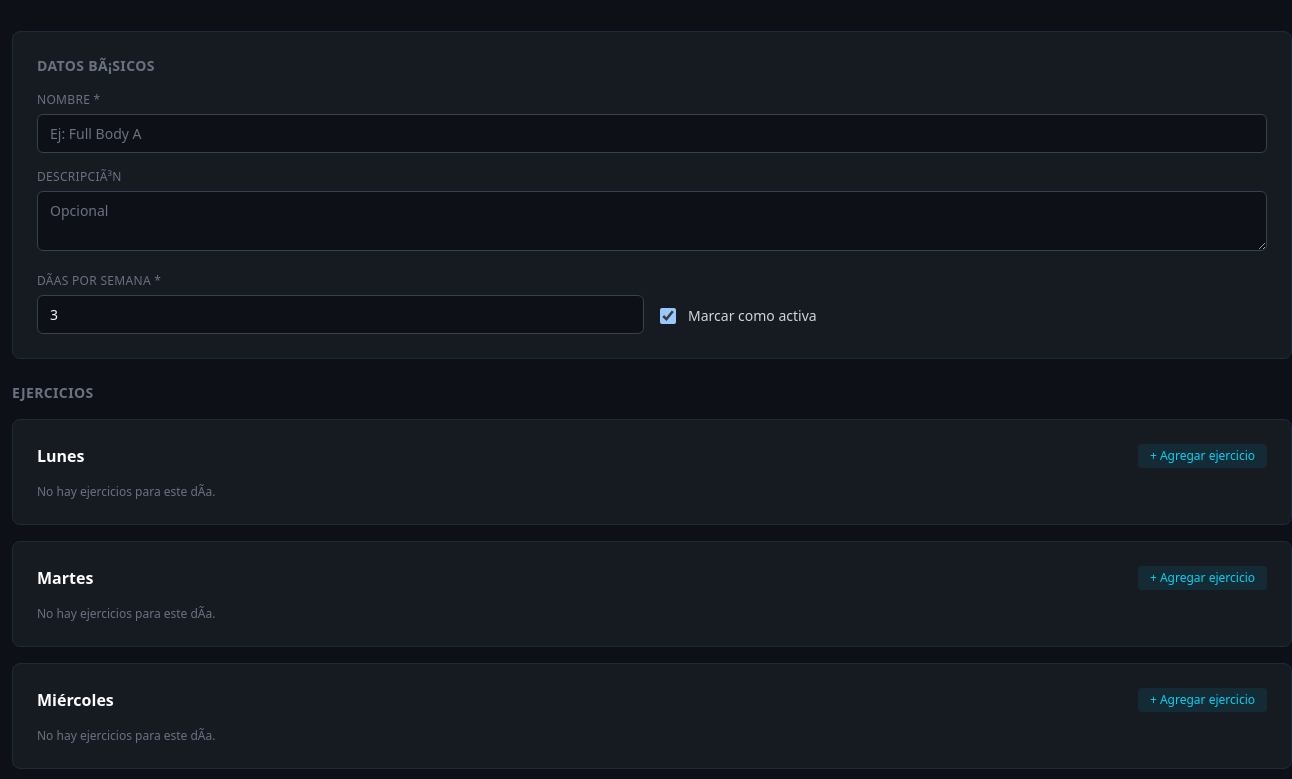
Test: RoutineForm › cambiar dÃ­as_per_week actualiza los dÃ­as renderizados
Replace the text in the number field showing "3" with "5": (340, 314) [37,295,644,334]
(page scrolled)
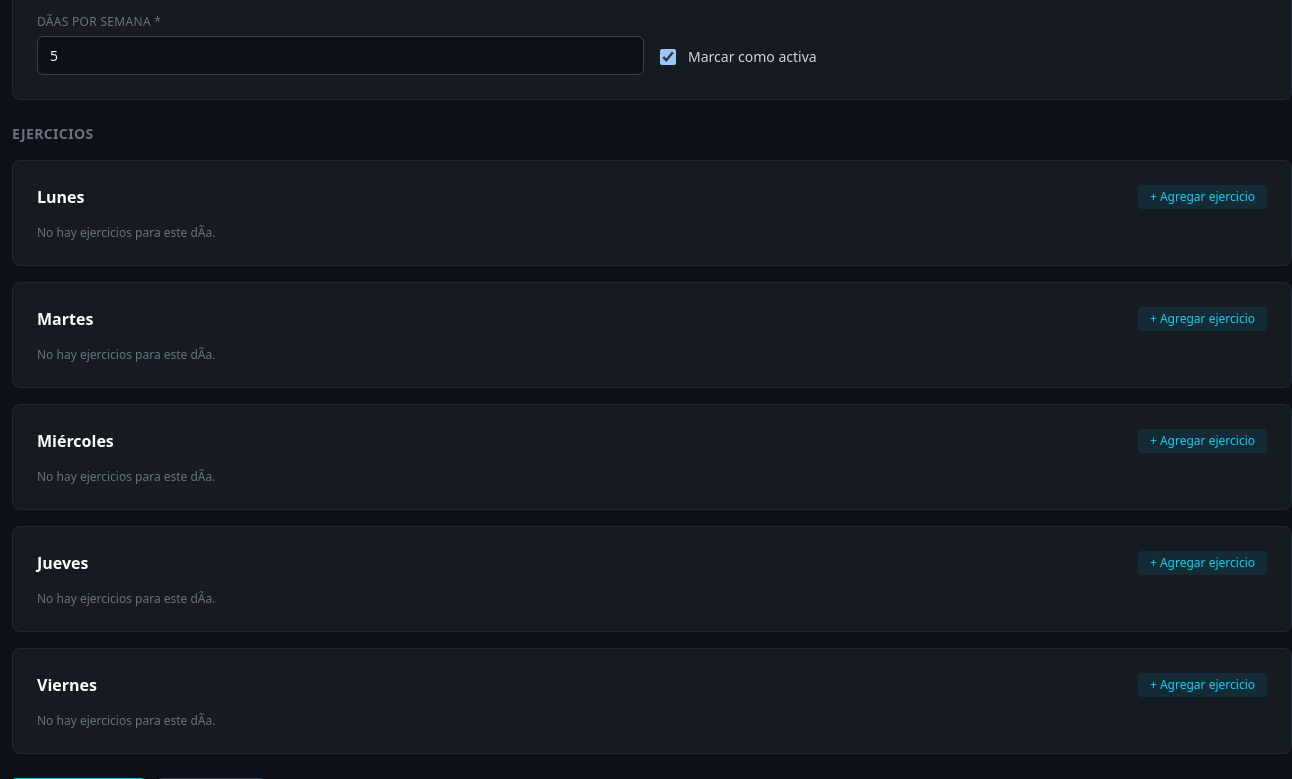
Expected: the heading "Jueves" is shown, [37,551,88,575]
Expected: the heading "Viernes" is shown, [37,673,97,697]
Expected: the number of buttons "+ Agregar ejercicio" is 5, [1138,185,1267,209]; [1138,307,1267,331]; [1138,429,1267,453]; [1138,551,1267,575]; [1138,673,1267,697]
